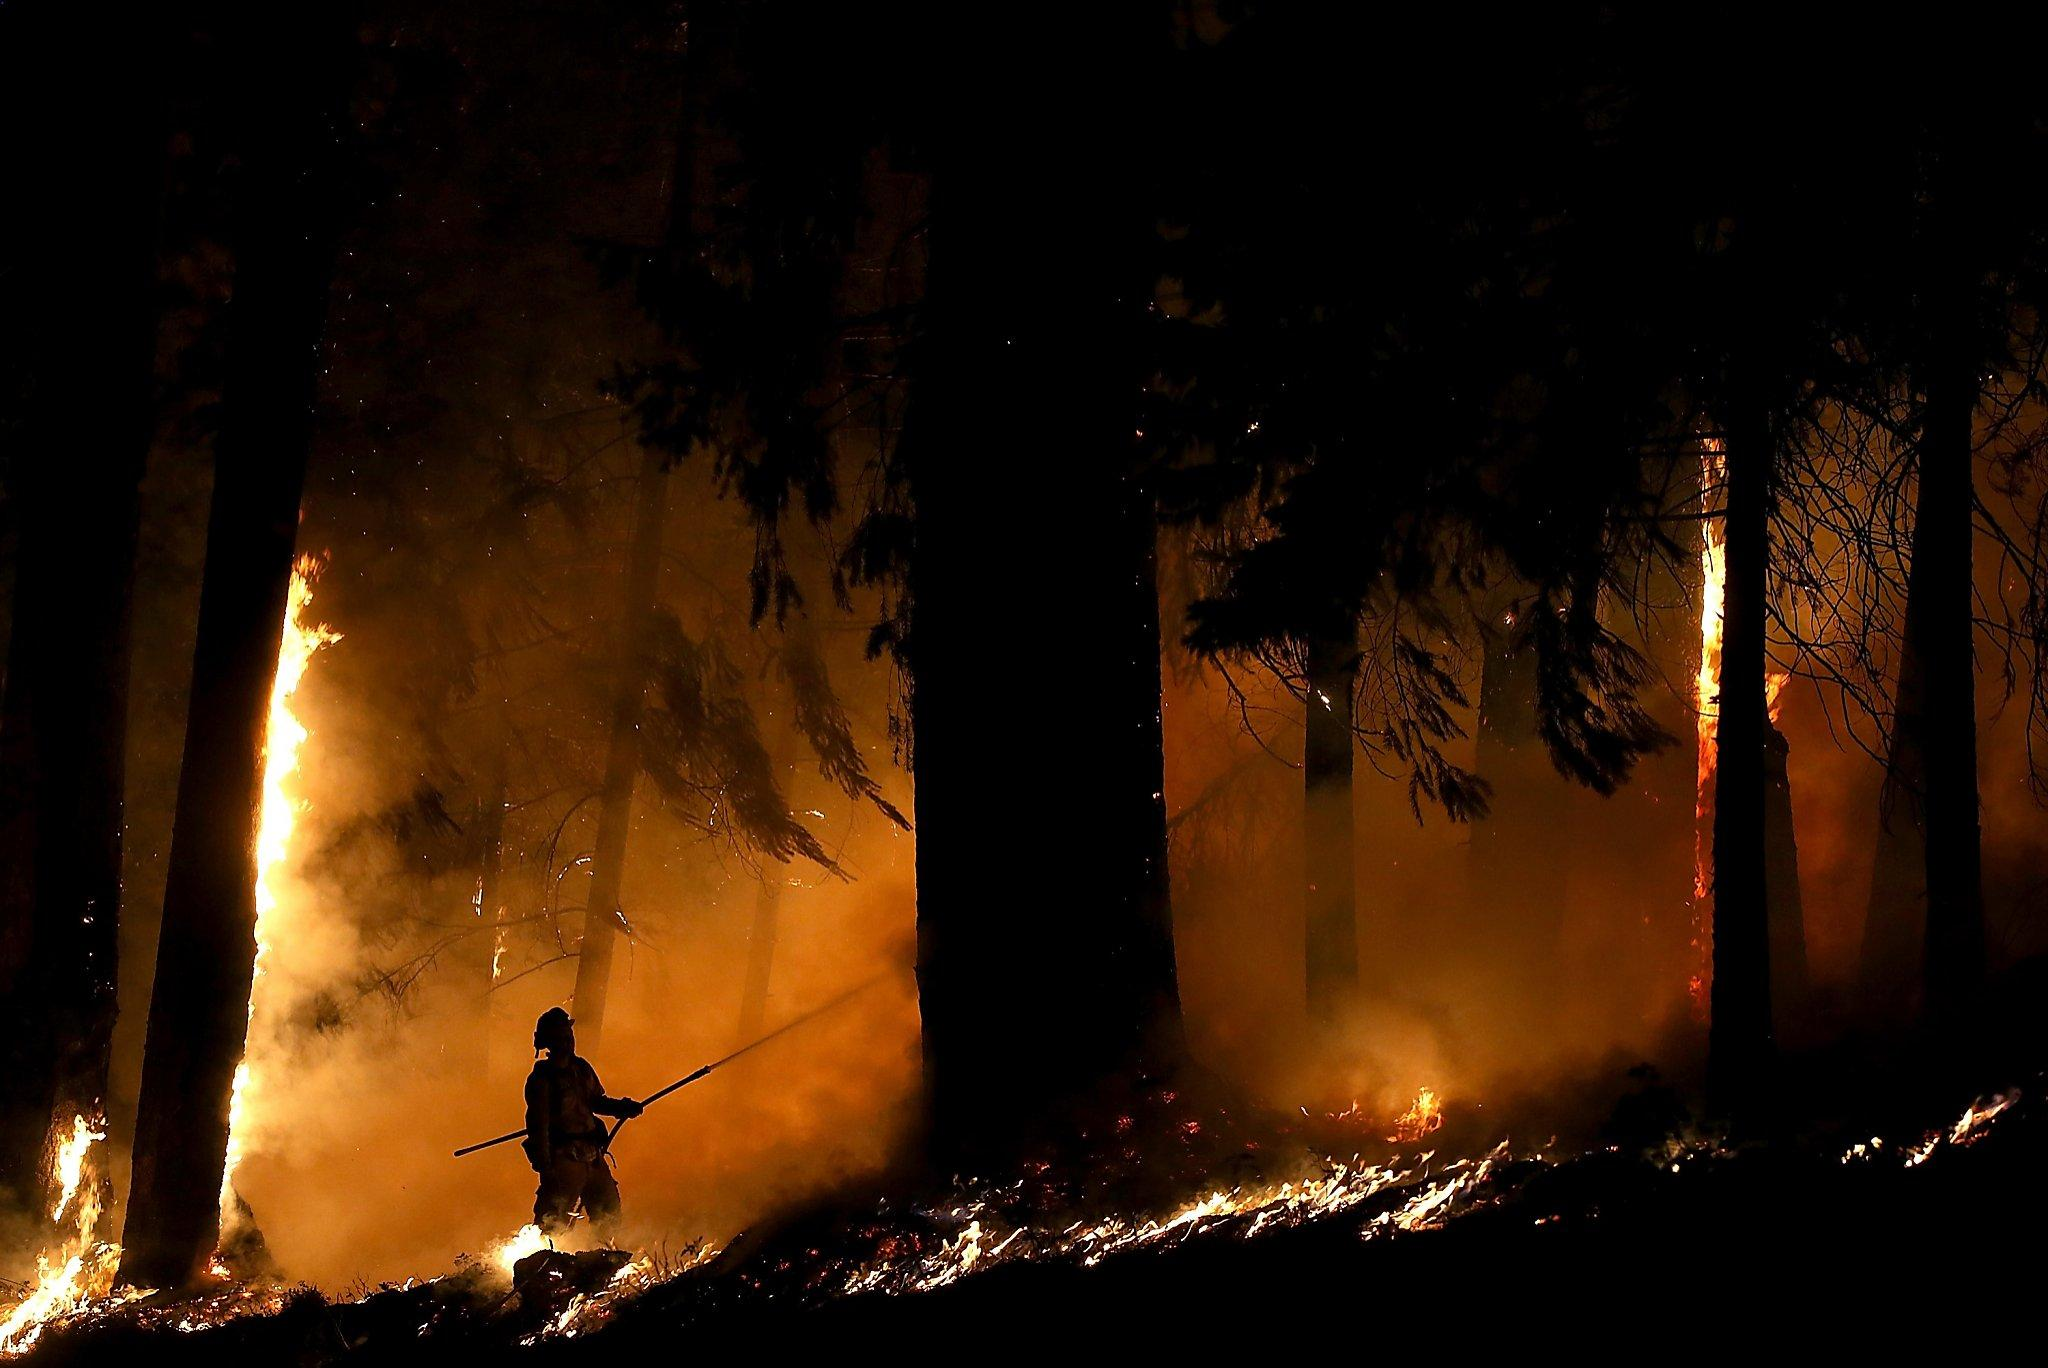Fire: (11, 533, 348, 1350), (887, 1089, 1544, 1275), (1670, 414, 1796, 886)
